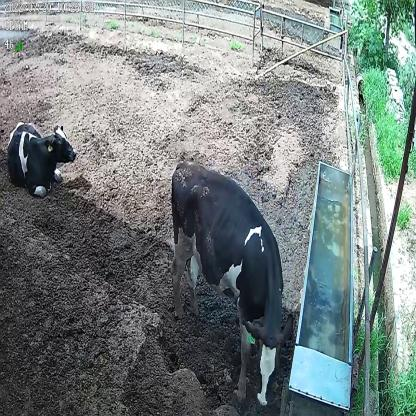cow: (167, 158, 294, 408), (7, 119, 76, 202)
